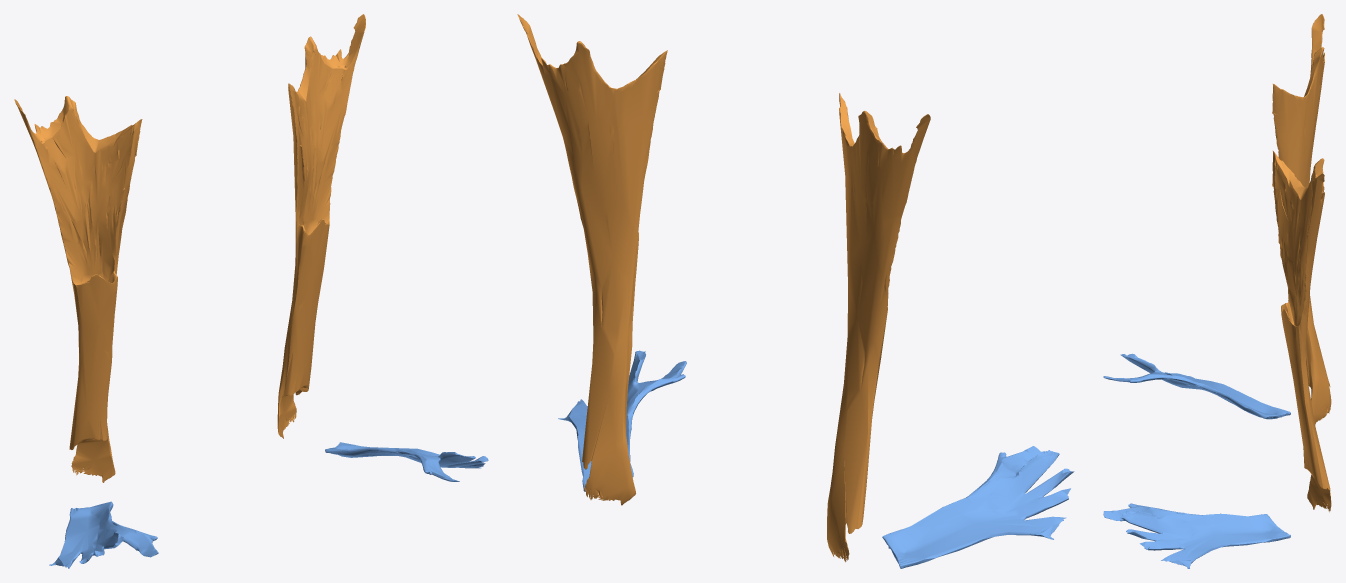
The model's file is supplement-ankle-foot-connective.glb.
The picture shows the model from 3 angles, left to right: view 1: azimuth 30°, elevation 25°; view 2: azimuth 150°, elevation 25°; view 3: azimuth 270°, elevation 25°; orthographic projection. The views are drawn at different scales.
Visible parts, largest first — view 1: supplemental:calcaneal-tendon:isa:FJ1405, supplemental:calcaneal-tendon:isa:FJ1405M, supplemental:long-plantar-ligament:isa:FJ1424, supplemental:long-plantar-ligament:isa:FJ1424M; view 2: supplemental:calcaneal-tendon:isa:FJ1405M, supplemental:calcaneal-tendon:isa:FJ1405, supplemental:long-plantar-ligament:isa:FJ1424, supplemental:long-plantar-ligament:isa:FJ1424M; view 3: supplemental:calcaneal-tendon:isa:FJ1405M, supplemental:calcaneal-tendon:isa:FJ1405, supplemental:long-plantar-ligament:isa:FJ1424M, supplemental:long-plantar-ligament:isa:FJ1424.
Part boxes in pixels (x1,y1,x2,y2): supplemental:calcaneal-tendon:isa:FJ1405: [14, 96, 142, 482]; supplemental:calcaneal-tendon:isa:FJ1405M: [277, 14, 365, 438]; supplemental:long-plantar-ligament:isa:FJ1424: [49, 501, 158, 568]; supplemental:long-plantar-ligament:isa:FJ1424M: [325, 442, 488, 481]; supplemental:calcaneal-tendon:isa:FJ1405M: [517, 14, 667, 505]; supplemental:calcaneal-tendon:isa:FJ1405: [827, 93, 930, 562]; supplemental:long-plantar-ligament:isa:FJ1424: [882, 446, 1074, 568]; supplemental:long-plantar-ligament:isa:FJ1424M: [558, 350, 686, 491]; supplemental:calcaneal-tendon:isa:FJ1405M: [1272, 151, 1331, 512]; supplemental:calcaneal-tendon:isa:FJ1405: [1272, 14, 1331, 424]; supplemental:long-plantar-ligament:isa:FJ1424M: [1103, 503, 1290, 568]; supplemental:long-plantar-ligament:isa:FJ1424: [1103, 353, 1290, 419].
Size of the model in its own units: 0.2357 by 0.2189 by 0.1179.
